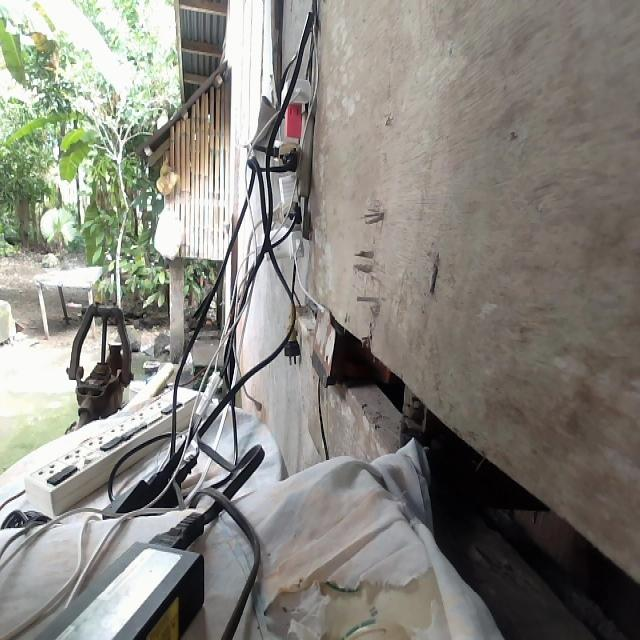-: (263, 74, 312, 230)
